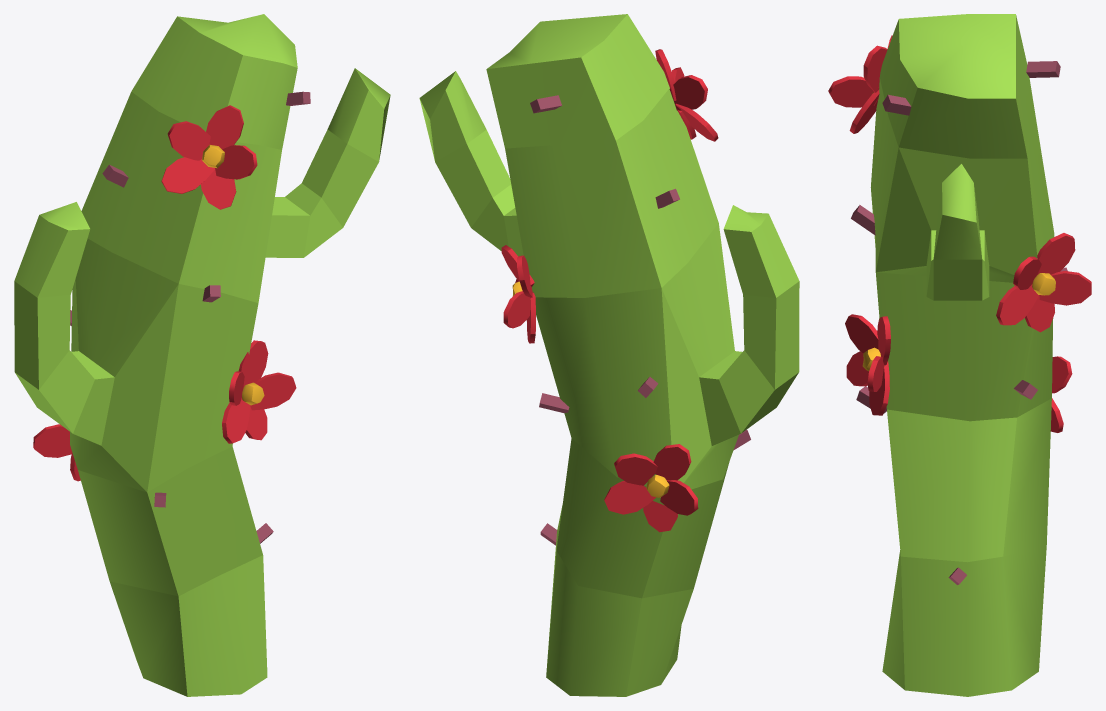
Rendered from cactus1.glb.
The picture shows the model from 3 angles, left to right: view 1: azimuth 30°, elevation 25°; view 2: azimuth 150°, elevation 25°; view 3: azimuth 270°, elevation 25°; orthographic projection. The views are drawn at different scales.
Visible parts, largest first — view 1: pCube1, pCube6.001, pCube5.001, pCube2.001, pCube3, pCube3.001, pCube3.003, pCube6, pCube4.001, pCube2, pCube4; view 2: pCube1, pCube6.003, pCube2.003, pCube5.003, pCube5.001, pCube3.003, pCube3.002, pCube4.003; view 3: pCube1, pCube3.002, pCube6.002, pCube2.002, pCube3.001, pCube5, pCube2.001, pCube4.002, pCube4, pCube5.002, pCube5.003, pCube6 (+7 smaller).
Part boxes in pixels (x1,y1,x2,y2): pCube1: (14,14,390,696); pCube6.001: (161,157,214,193); pCube5.001: (167,121,210,160); pCube2.001: (206,105,243,149); pCube3: (250,372,296,410); pCube3.001: (215,145,257,179); pCube3.003: (33,424,72,457); pCube6: (222,398,250,443); pCube4.001: (201,168,236,209); pCube2: (238,340,268,387); pCube4: (245,407,267,440); pCube1: (419,14,799,696); pCube6.003: (604,481,655,514); pCube2.003: (653,444,691,480); pCube5.003: (614,453,657,485); pCube5.001: (669,75,707,110); pCube3.003: (660,480,698,515); pCube3.002: (503,291,533,328); pCube4.003: (643,501,677,532); pCube1: (870,14,1054,696); pCube3.002: (1039,271,1091,305); pCube6.002: (996,284,1038,325); pCube2.002: (1037,233,1075,275); pCube3.001: (828,76,879,107); pCube5: (845,314,878,353); pCube2.001: (863,45,887,92); pCube4.002: (1025,295,1054,332); pCube4: (869,361,889,415); pCube5.002: (1013,256,1041,289); pCube5.003: (1052,356,1072,393); pCube6: (846,351,868,386).
Size of the model in its own units: 2.61 by 4.31 by 1.56.
